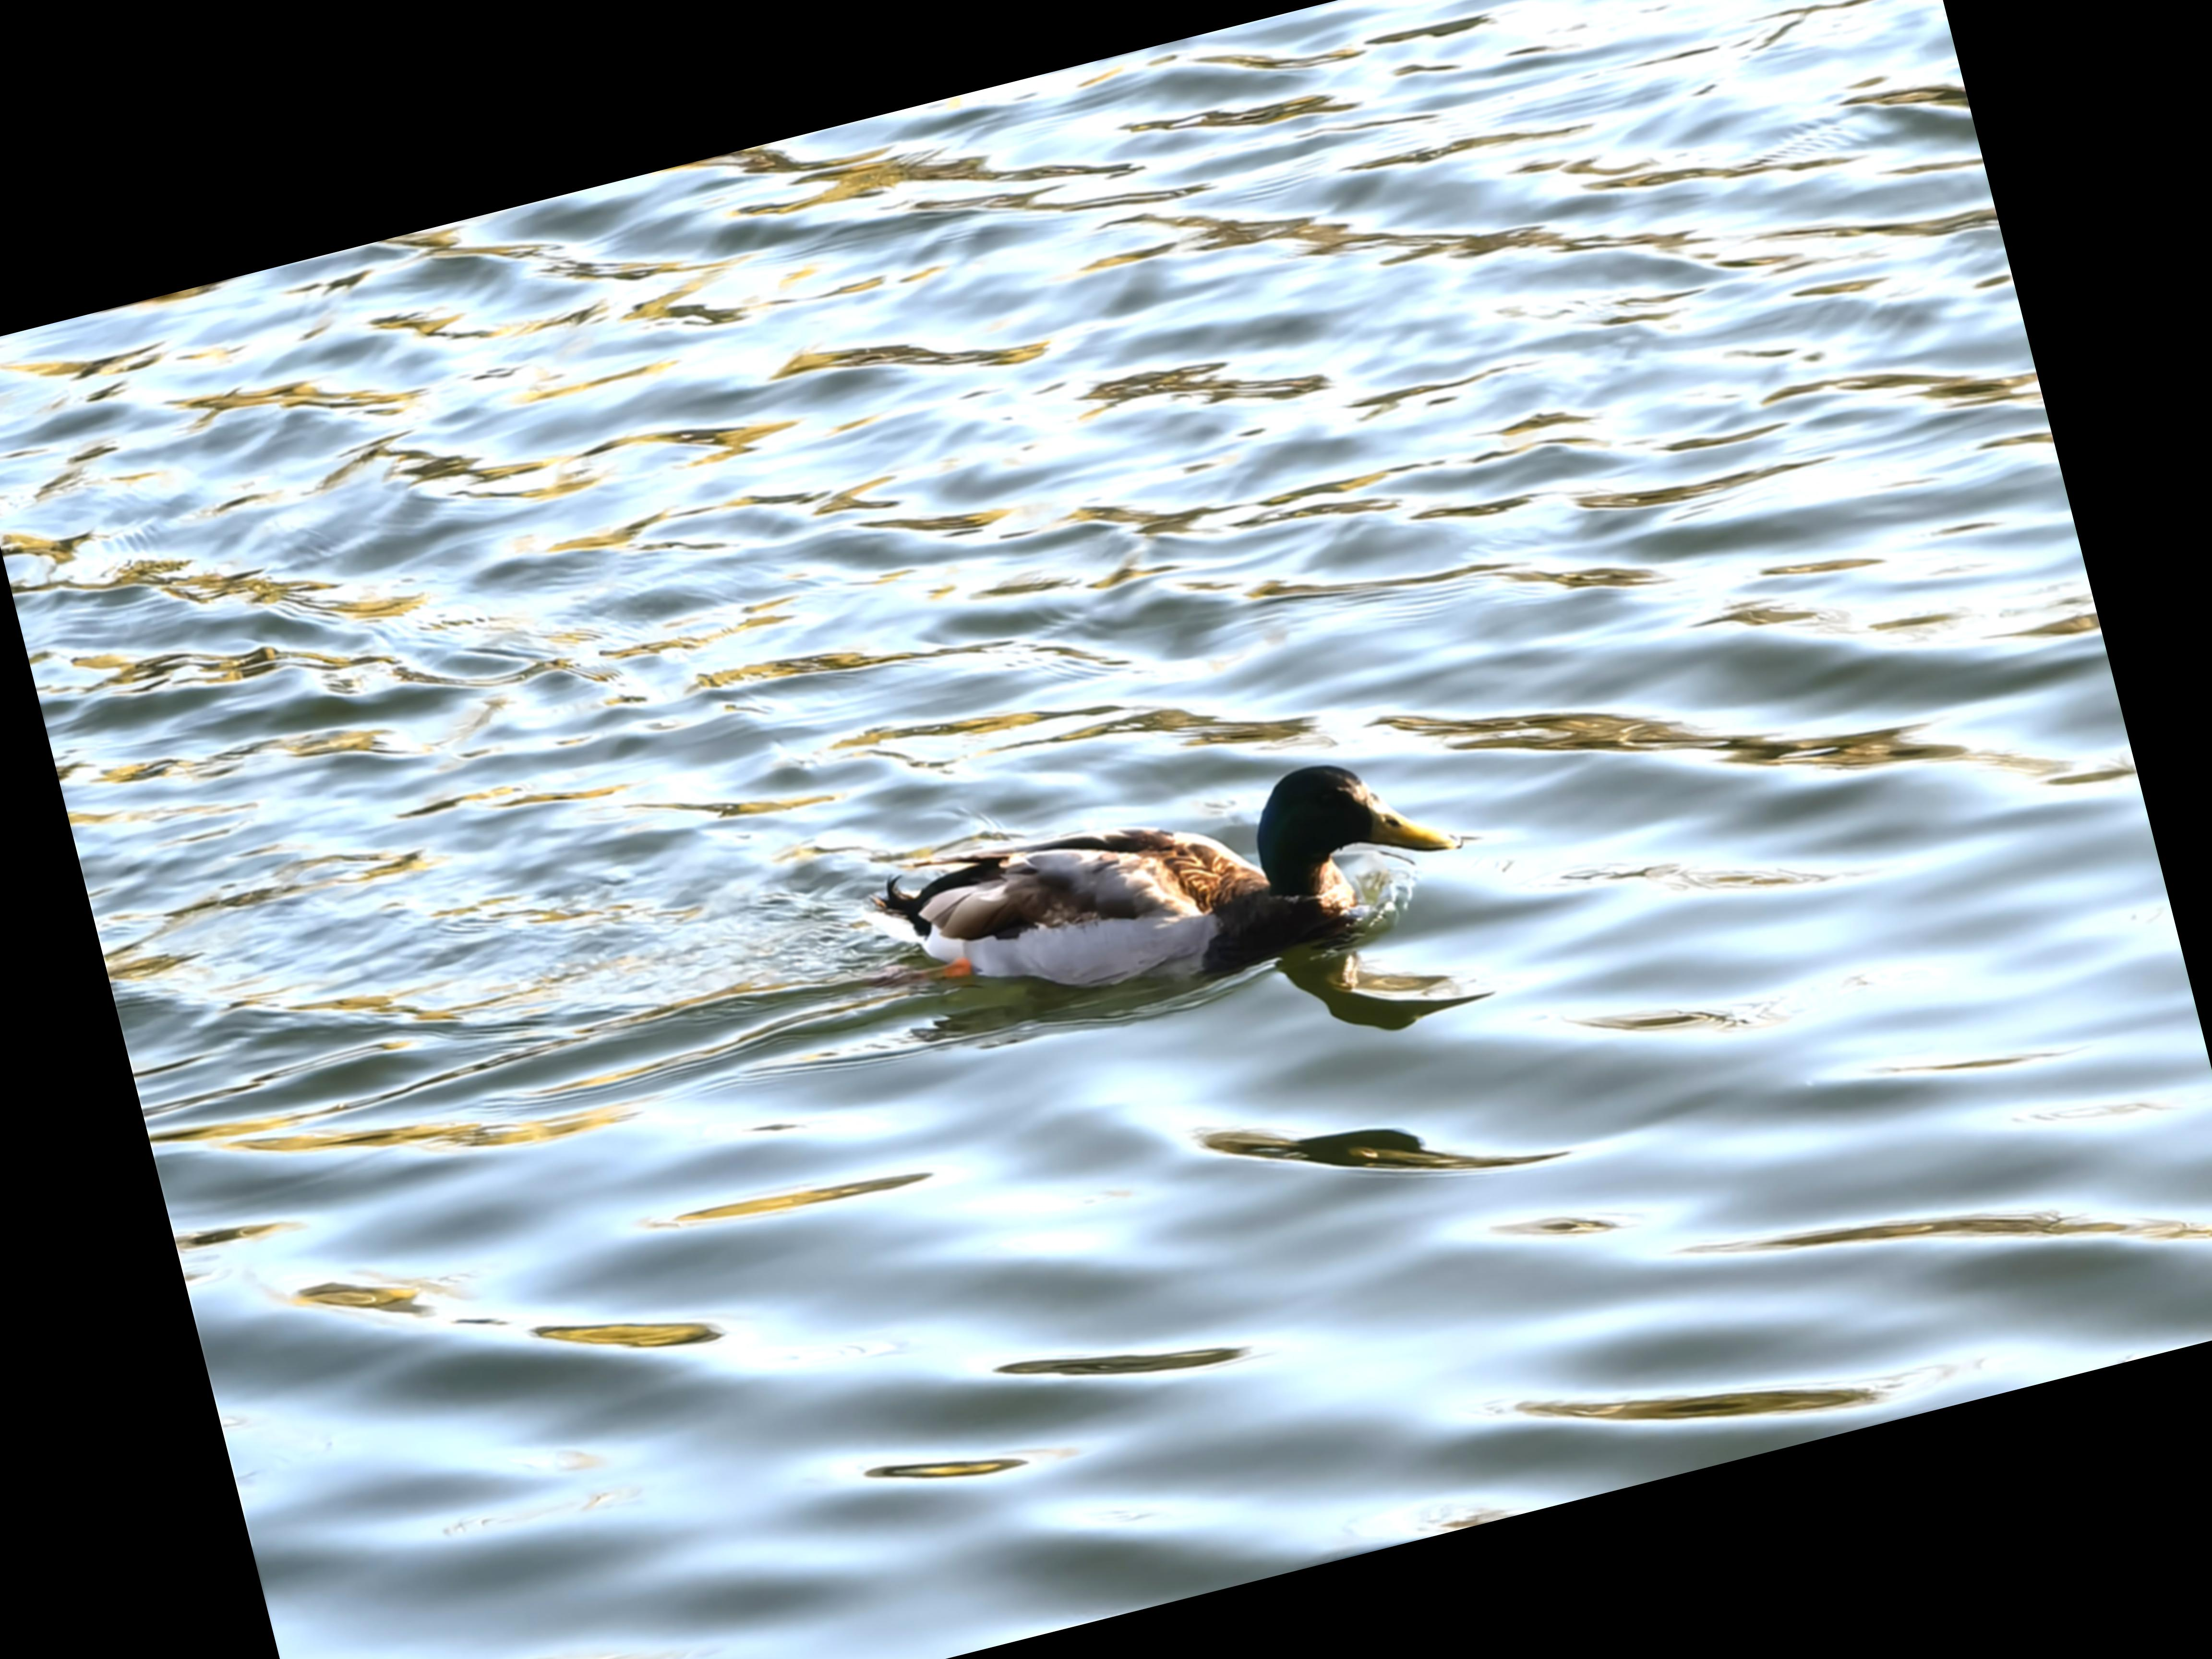duck: (787, 692, 1491, 1093)
